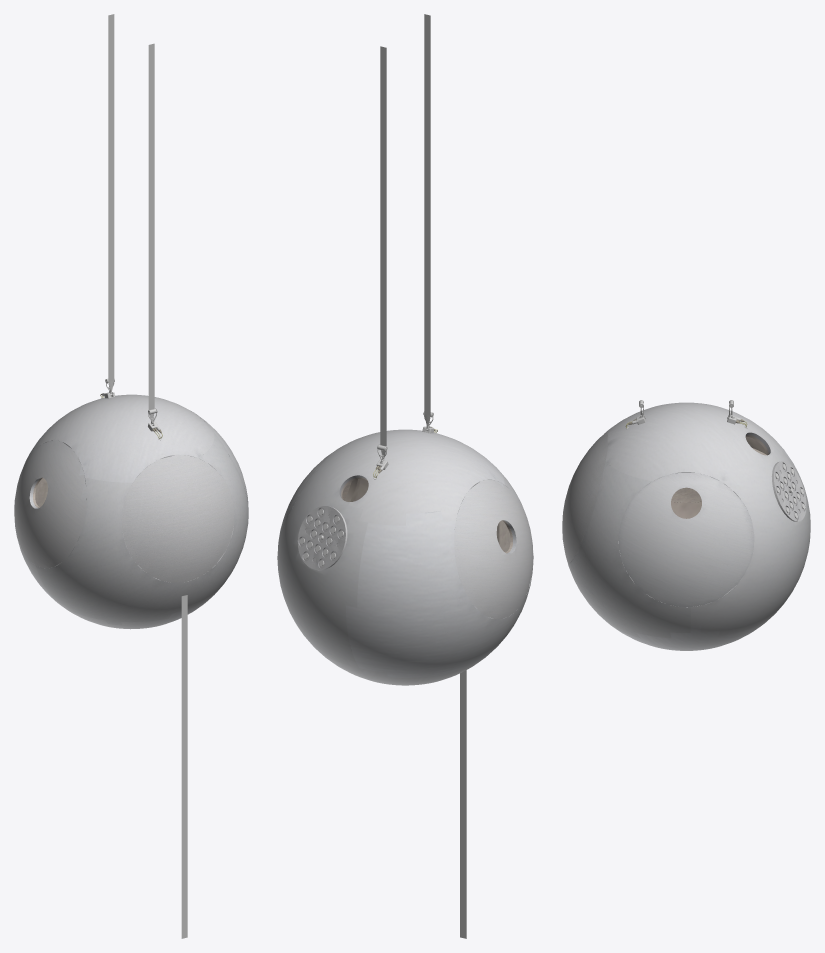
Rendered from SpaceCraft2.fbx.
3 renders of one model, left to right at view 1: azimuth 30°, elevation 25°; view 2: azimuth 150°, elevation 25°; view 3: azimuth 270°, elevation 25°, orthographic. The views are drawn at different scales.
Parts seen in each view (by area): view 1: SC_UURAntenna2; view 2: SC_UURAntenna2; view 3: SC_UURAntenna2.
Boxes of the visible parts, x1=… form: SC_UURAntenna2: x1=14, y1=14, x2=248, y2=938; SC_UURAntenna2: x1=277, y1=14, x2=533, y2=938; SC_UURAntenna2: x1=562, y1=400, x2=810, y2=650.
Size of the model in its own units: 225 by 919 by 225.
